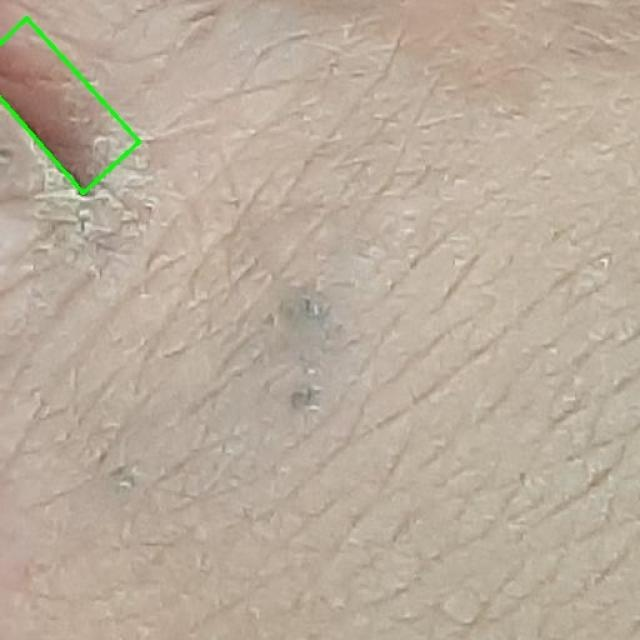Eczema: (0, 5, 145, 193)
